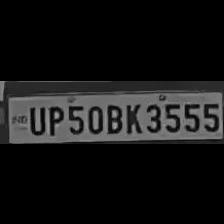0: (84, 101, 104, 133)
3: (142, 100, 162, 132)
5: (64, 102, 84, 134), (200, 99, 220, 131), (163, 99, 181, 131), (181, 99, 199, 131)
B: (104, 100, 124, 132)
K: (122, 100, 142, 134)
P: (44, 102, 64, 136)
U: (25, 104, 45, 134)
